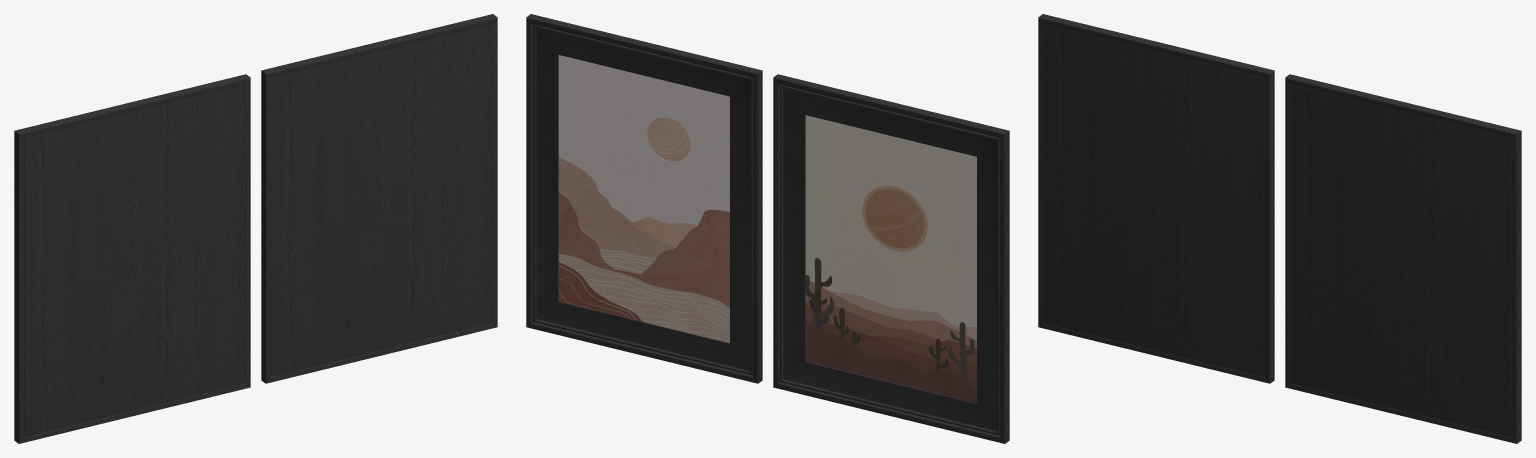
The model's file is picture1.fbx.
3 views of the same model, side by side, from view 1: azimuth 30°, elevation 25°; view 2: azimuth 150°, elevation 25°; view 3: azimuth 330°, elevation 25° (orthographic).
Visible parts, largest first — view 1: model 0016; view 2: model 0016, Object001, Object002; view 3: model 0016.
Part boxes in pixels (x1,y1,x2,y2): model 0016: (14, 14, 497, 443); model 0016: (526, 14, 1009, 443); Object001: (805, 115, 976, 403); Object002: (558, 55, 729, 342); model 0016: (1038, 14, 1521, 443).
Bounding box in the file's own units: 57.06 × 35.31 × 1.02.
